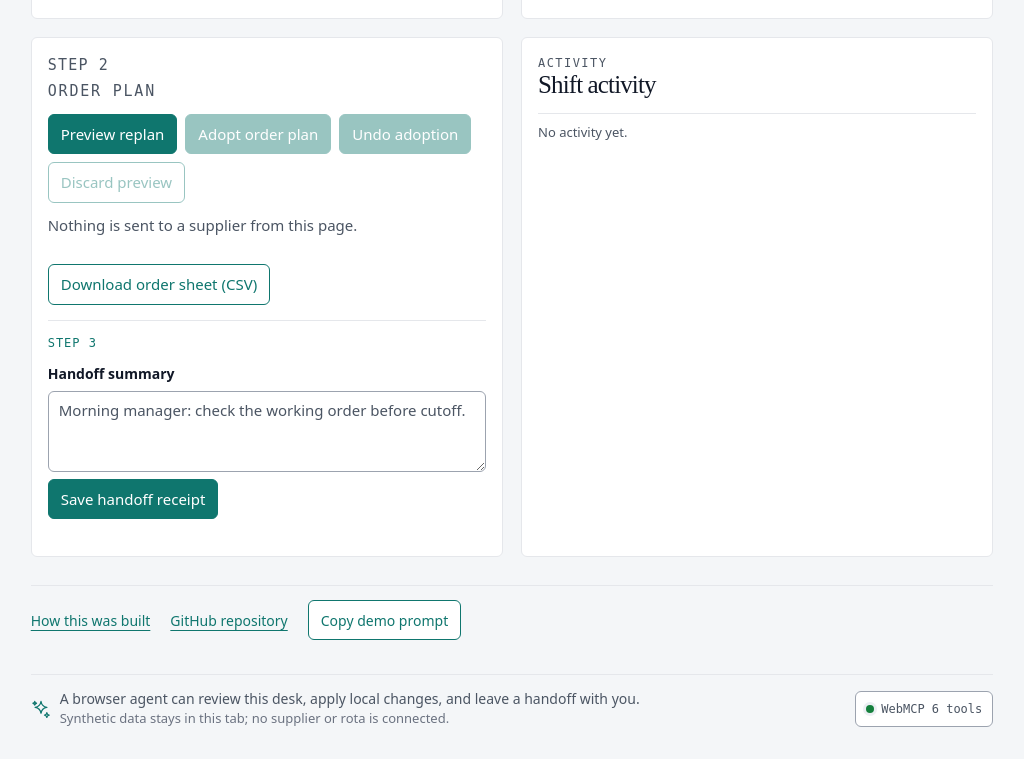
Scenario: order review UI › shows the live WebMCP tool count and names in the footer
(page scrolled)
Click the text "6 tools".
click(957, 709)  # box x1=932 y1=700 x2=982 y2=718
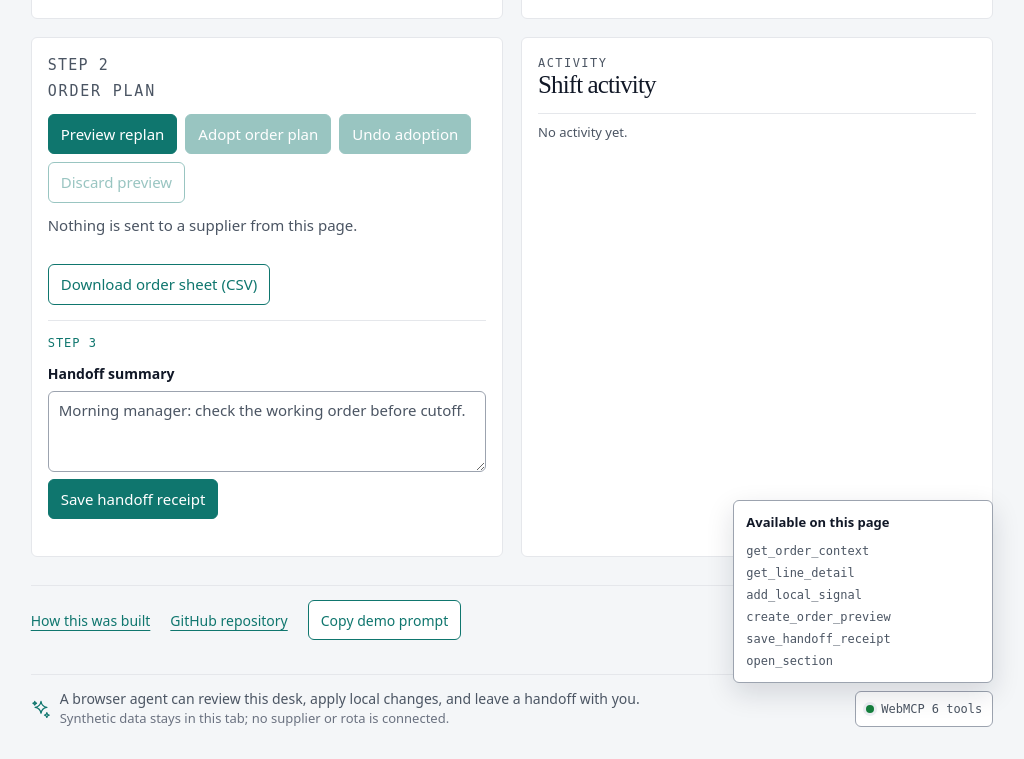
Result: the text "get_order_context" is shown at x1=746 y1=544 x2=869 y2=558
Result: the text "open_section" is shown at x1=746 y1=654 x2=833 y2=668
Click the button "Preview replan".
click(112, 134)  # box x1=48 y1=114 x2=177 y2=154
(page scrolled)
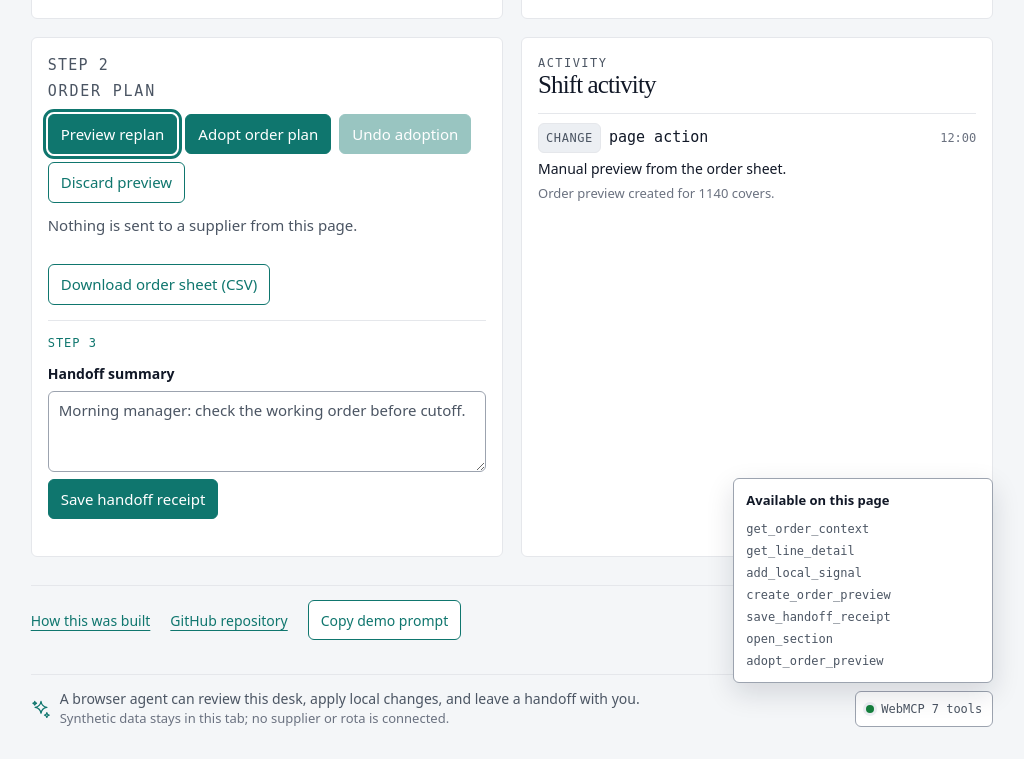
Result: the text "7 tools" is shown at x1=932 y1=700 x2=982 y2=718
Result: the text "adopt_order_preview" is shown at x1=746 y1=654 x2=884 y2=668
